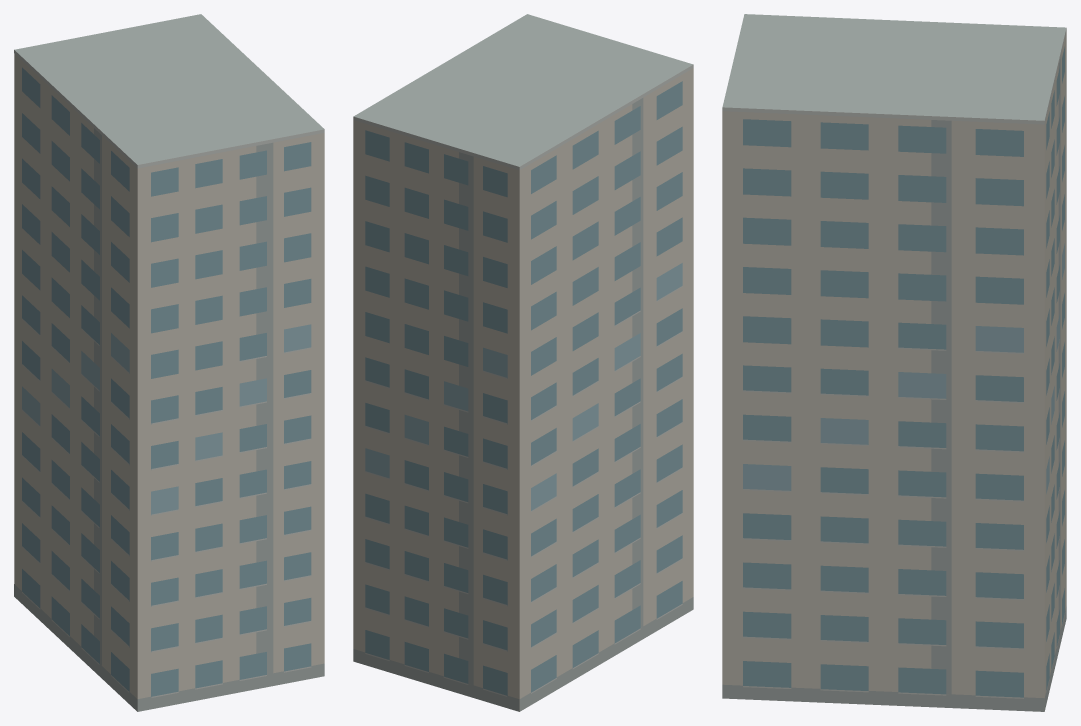
File: residential-4d935b1c-628f-459c-b5c3-c454c8f27c4c.glb
The picture shows the model from 3 angles, left to right: view 1: azimuth 30°, elevation 25°; view 2: azimuth 150°, elevation 25°; view 3: azimuth 270°, elevation 25°; orthographic projection. The views are drawn at different scales.
Visible parts, largest first — view 1: residential-4d935b1c-628f-459c-b5c3-c454c8f27c4c.tmp; view 2: residential-4d935b1c-628f-459c-b5c3-c454c8f27c4c.tmp; view 3: residential-4d935b1c-628f-459c-b5c3-c454c8f27c4c.tmp.
Part boxes in pixels (x1=…): residential-4d935b1c-628f-459c-b5c3-c454c8f27c4c.tmp: x1=14, y1=14, x2=324, y2=711; residential-4d935b1c-628f-459c-b5c3-c454c8f27c4c.tmp: x1=353, y1=14, x2=693, y2=711; residential-4d935b1c-628f-459c-b5c3-c454c8f27c4c.tmp: x1=722, y1=14, x2=1066, y2=711.
Bounding box in the file's own units: 14.74 × 38 × 20.06.
